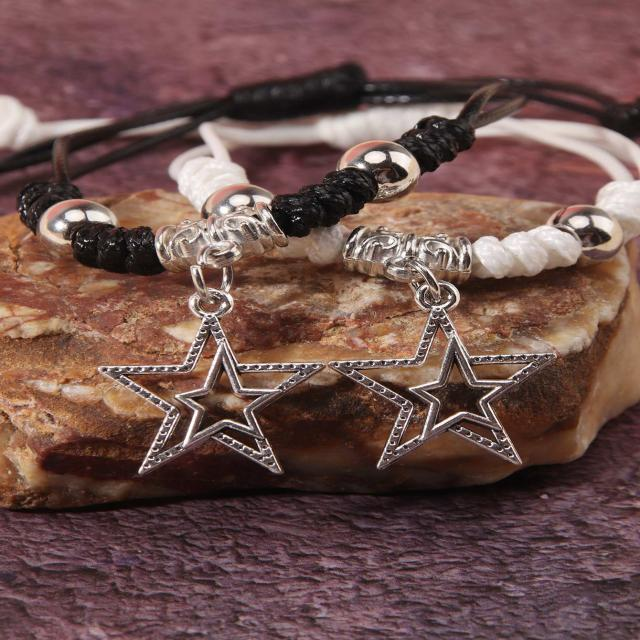bracelet: (0, 28, 640, 544)
